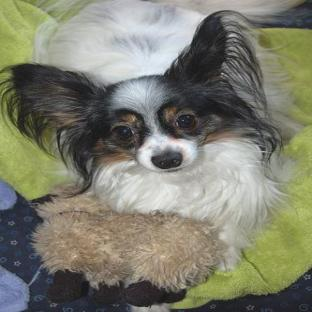Animal: (8, 0, 301, 270)
